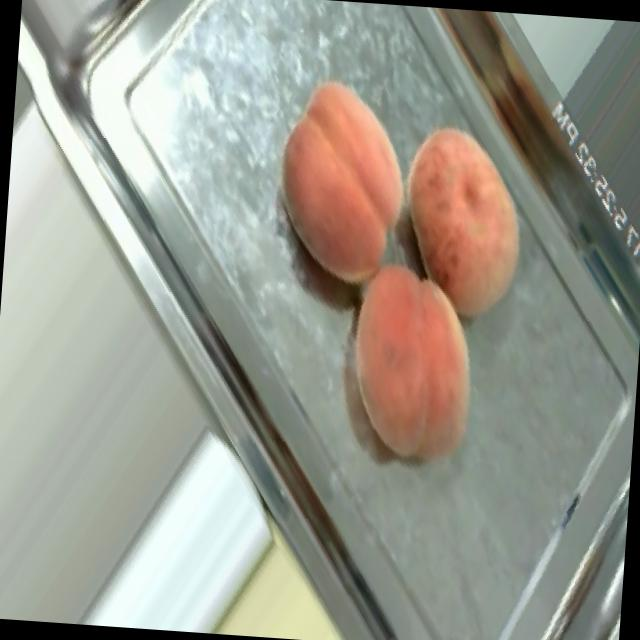Fruit: (308, 233, 516, 492), (246, 59, 430, 310), (378, 102, 556, 341)
